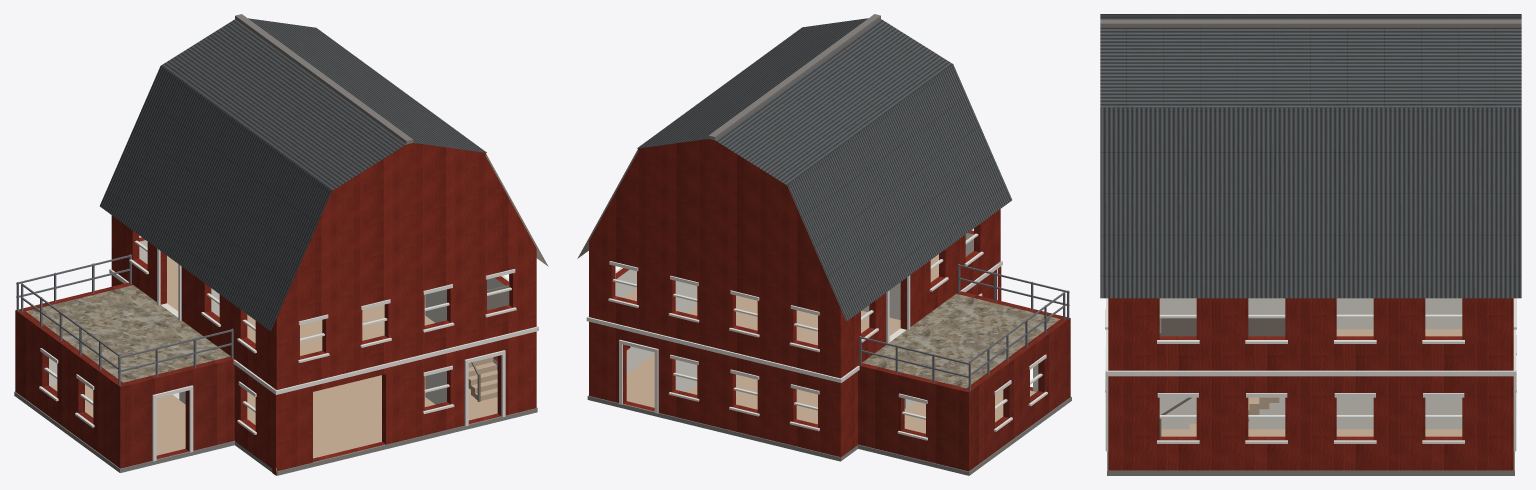
The model's file is cr-barn-lofts.towns-v2.lod0.glb.
3 views of the same model, side by side, from view 1: azimuth 30°, elevation 25°; view 2: azimuth 150°, elevation 25°; view 3: azimuth 270°, elevation 25° (orthographic). The views are drawn at different scales.
Parts seen in each view (by area): view 1: cr-barn-lofts; view 2: cr-barn-lofts; view 3: cr-barn-lofts.
Part boxes in pixels (x1,y1,x2,y2): cr-barn-lofts: [14, 14, 548, 475]; cr-barn-lofts: [577, 14, 1071, 475]; cr-barn-lofts: [1100, 14, 1521, 475].
Bounding box in the file's own units: 14.84 × 11.27 × 11.42.
6 materials, 3 textured.
